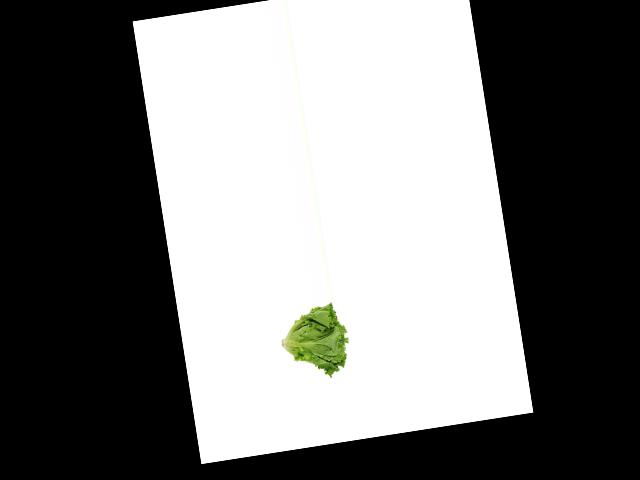lettuce: (274, 299, 356, 381)
